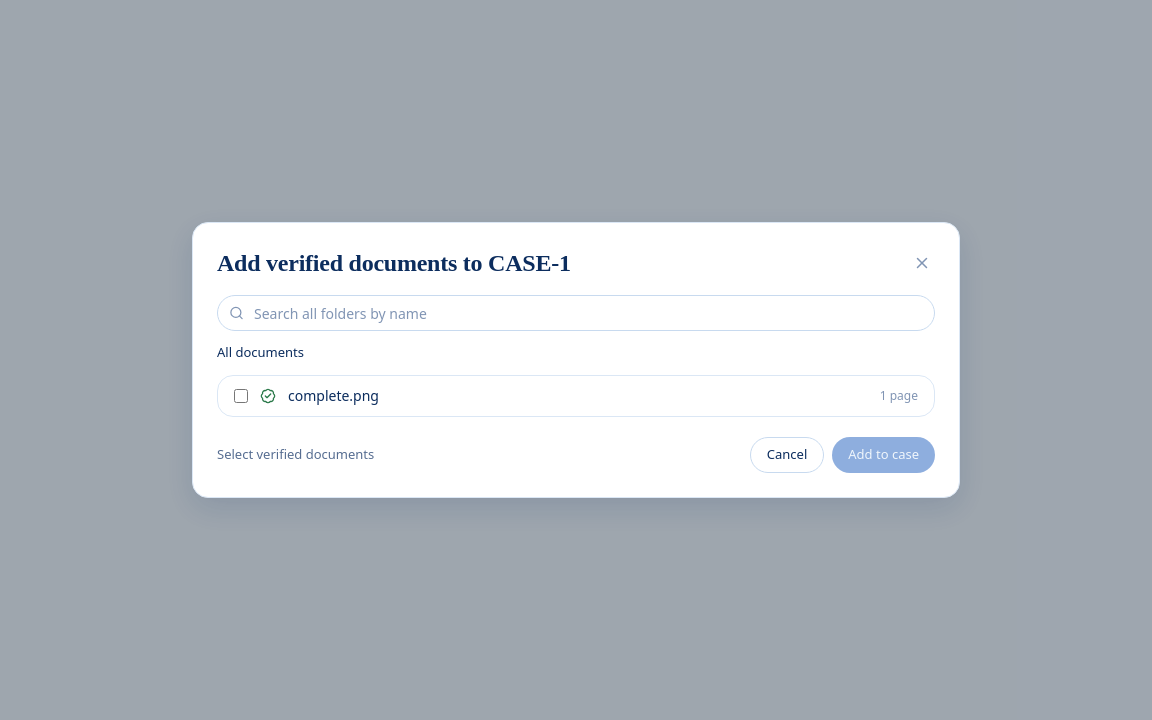
VerifiedDocumentPicker › shows when C3 cannot be reached
Click the checkbox labelled "complete.png 1 page": click(241, 396) [234,389,248,403]
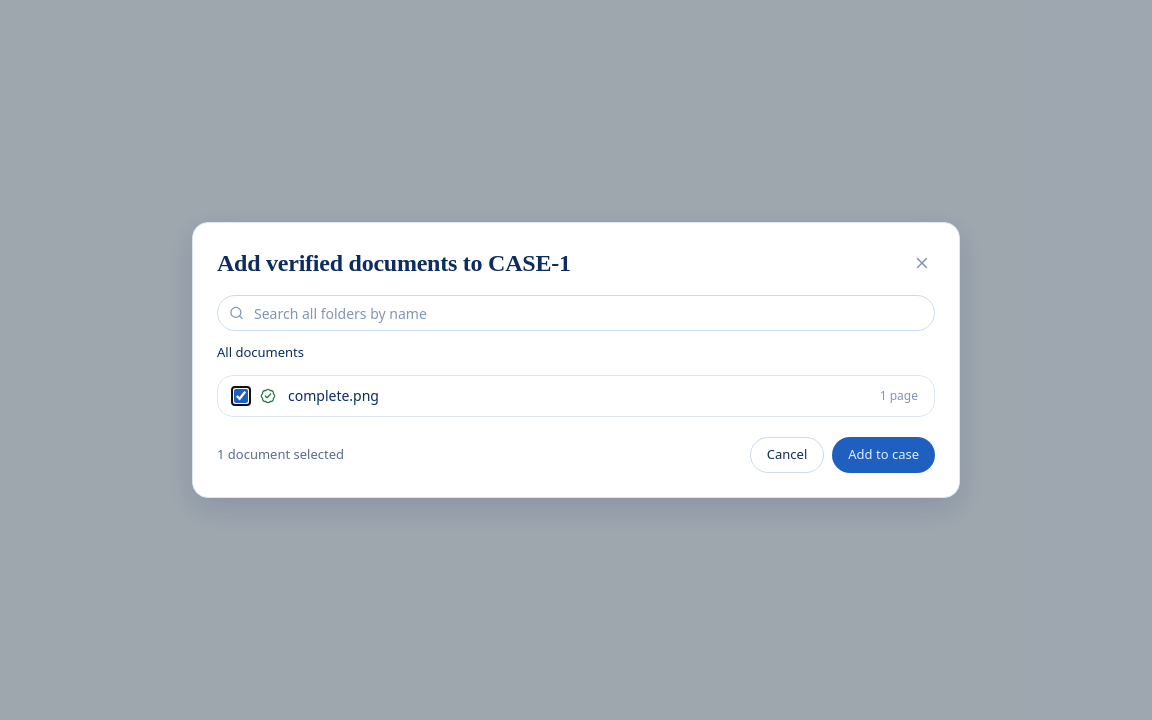
Click the button "Add to case": click(884, 455) [832,437,935,473]
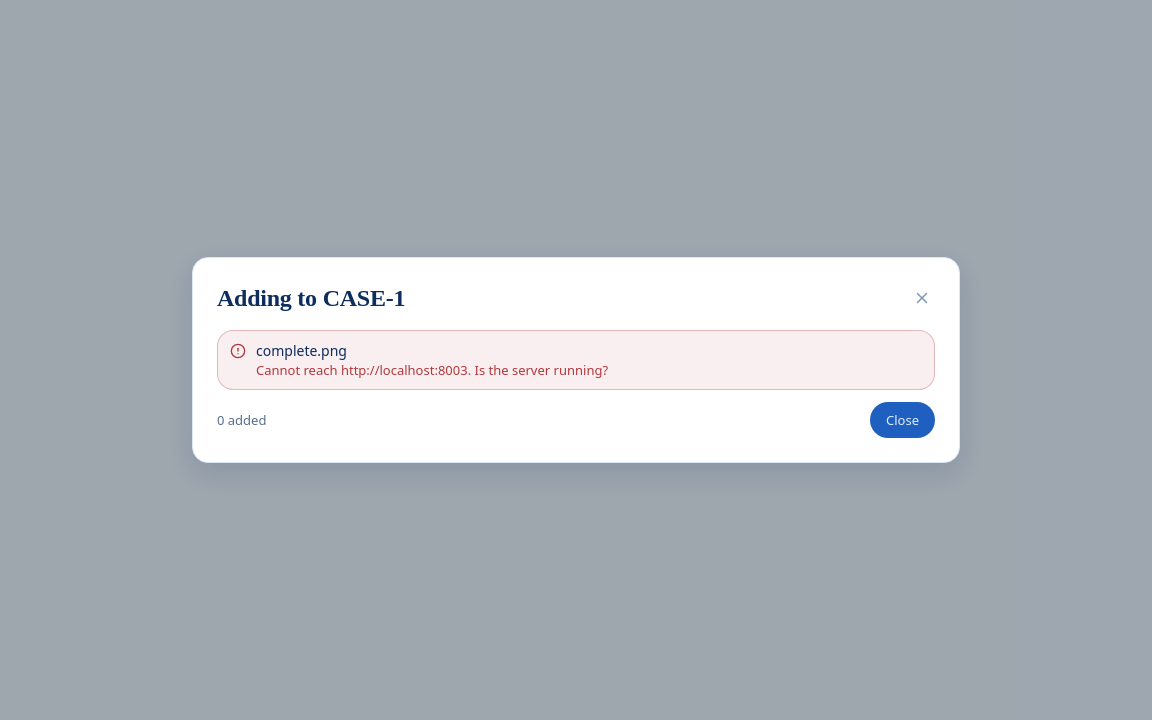
Now the text "Cannot reach http://localhost:8003. Is the server running?" is shown, box [256,361,608,379]
